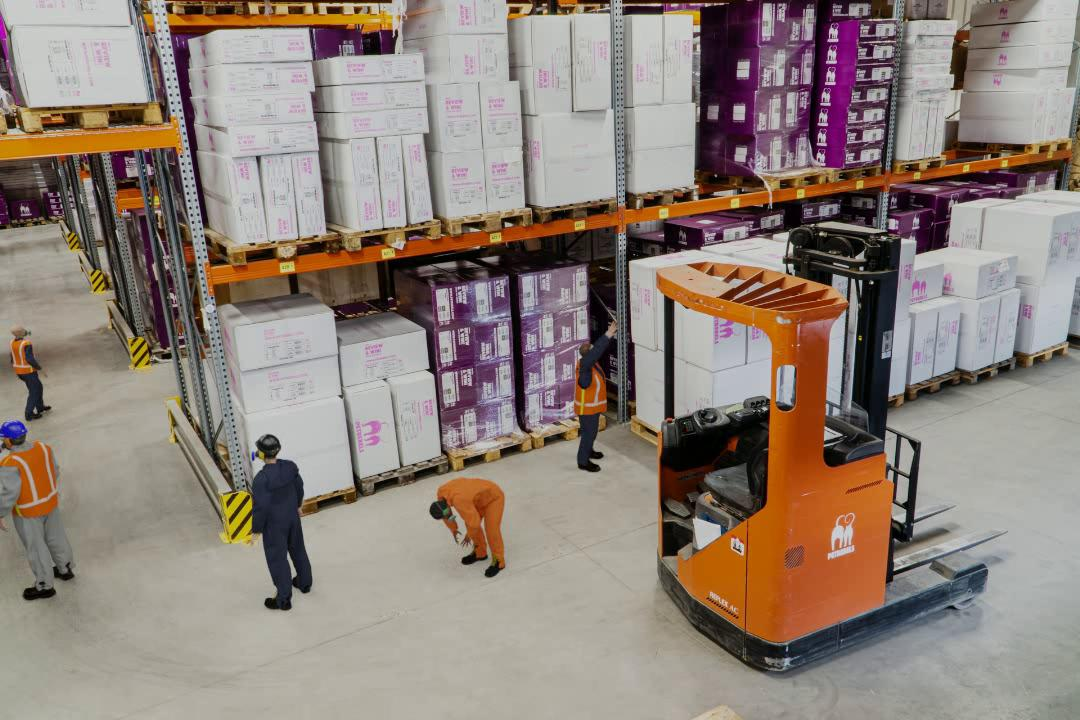Helmet: (255, 429, 282, 456), (0, 419, 27, 438)
Jacket: (2, 443, 62, 515), (575, 360, 610, 413), (10, 340, 33, 374)
Shoes: (23, 585, 56, 600), (483, 559, 507, 578), (460, 550, 489, 565), (292, 574, 312, 594), (264, 597, 292, 611), (53, 565, 74, 581), (577, 461, 601, 473), (588, 449, 603, 459), (25, 412, 42, 420), (37, 405, 53, 411)
